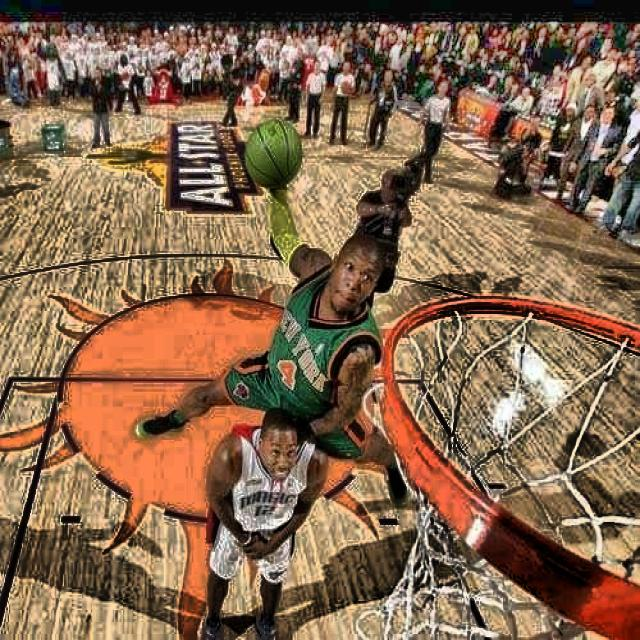board: (246, 120, 302, 190)
